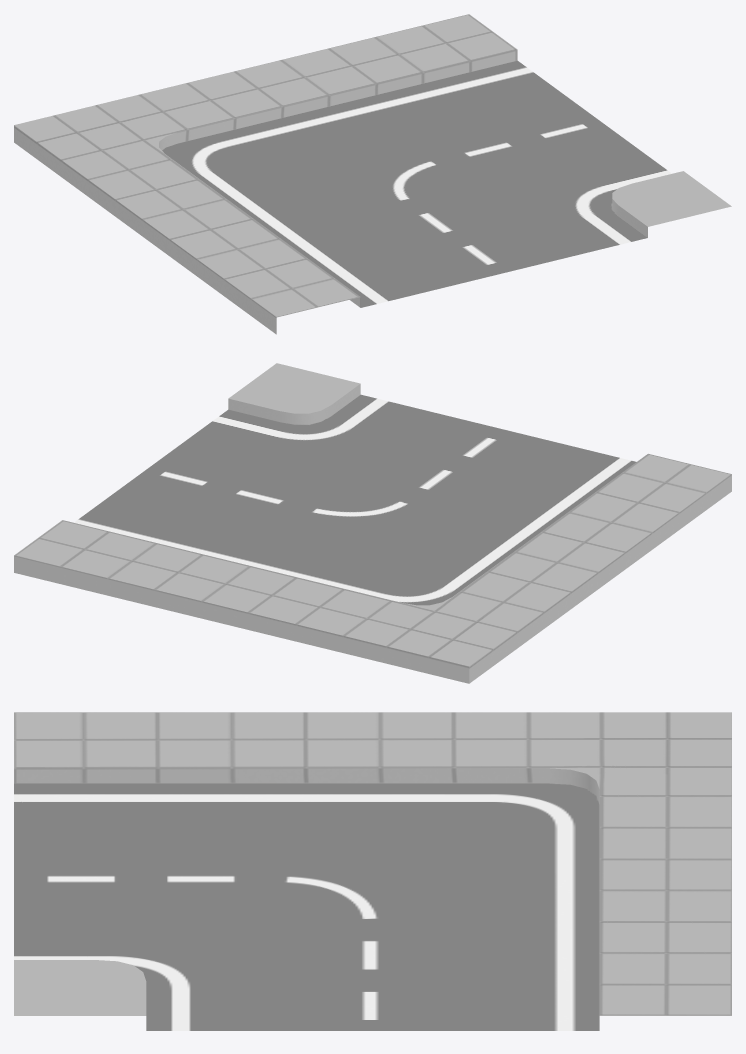
Rendered from Road5.glb.
3 views of the same model, one above another, from view 1: azimuth 30°, elevation 25°; view 2: azimuth 150°, elevation 25°; view 3: azimuth 270°, elevation 25° (orthographic). The views are drawn at different scales.
Visible parts, largest first — view 1: Box123; view 2: Box123; view 3: Box123.
Boxes of the visible parts, box(x1,y1,x2,y2) form: Box123: box(14, 14, 731, 334); Box123: box(14, 363, 731, 683); Box123: box(14, 712, 731, 1030).
Size of the model in its own units: 6 by 0.2183 by 6.
1 material, 1 textured.
